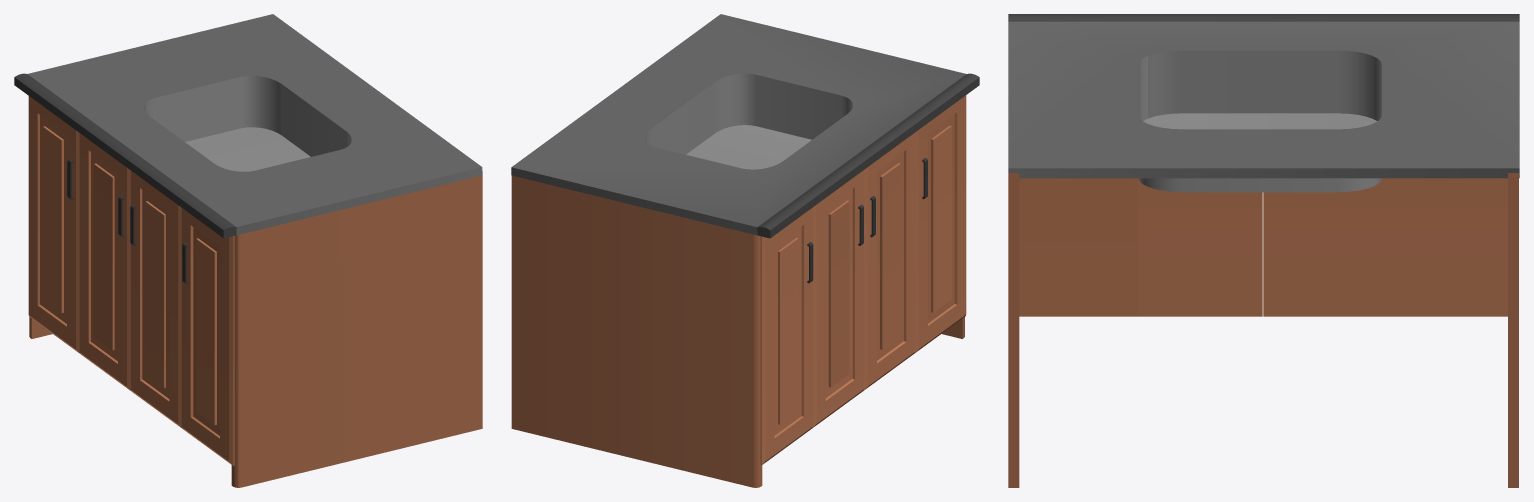
Rendered from StandWithFaucet.fbx.
3 views of the same model, side by side, from view 1: azimuth 30°, elevation 25°; view 2: azimuth 150°, elevation 25°; view 3: azimuth 270°, elevation 25° (orthographic). The views are drawn at different scales.
Parts seen in each view (by area): view 1: standwithfaucet; view 2: standwithfaucet; view 3: standwithfaucet.
Part boxes in pixels (box(x1,y1,x2,y2)): standwithfaucet: box(14, 14, 482, 487); standwithfaucet: box(511, 14, 979, 487); standwithfaucet: box(1008, 14, 1519, 487).
Size of the model in its own units: 210 by 204 by 294.
Materials: 1 (1 with a texture image).
